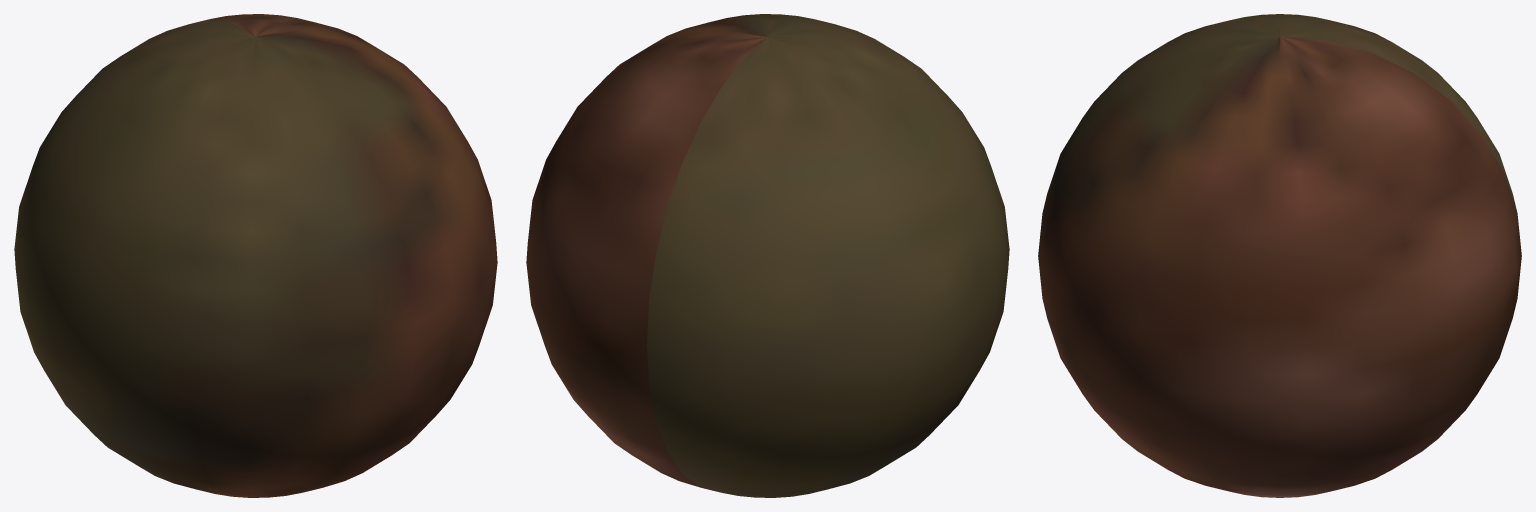
The model's file is Hipo_EsferaPI.obj.
The picture shows the model from 3 angles, left to right: view 1: azimuth 30°, elevation 25°; view 2: azimuth 150°, elevation 25°; view 3: azimuth 270°, elevation 25°; orthographic projection.
Parts seen in each view (by area): view 1: Sphere005; view 2: Sphere005; view 3: Sphere005.
Boxes of the visible parts, <box> form: Sphere005: <box>14,14,497,497</box>; Sphere005: <box>526,14,1009,497</box>; Sphere005: <box>1038,14,1521,497</box>.
Bounding box in the file's own units: 0.1336 × 0.1336 × 0.1336.
